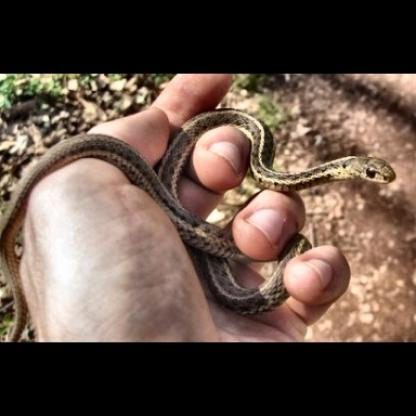Snake: (44, 107, 393, 308)
